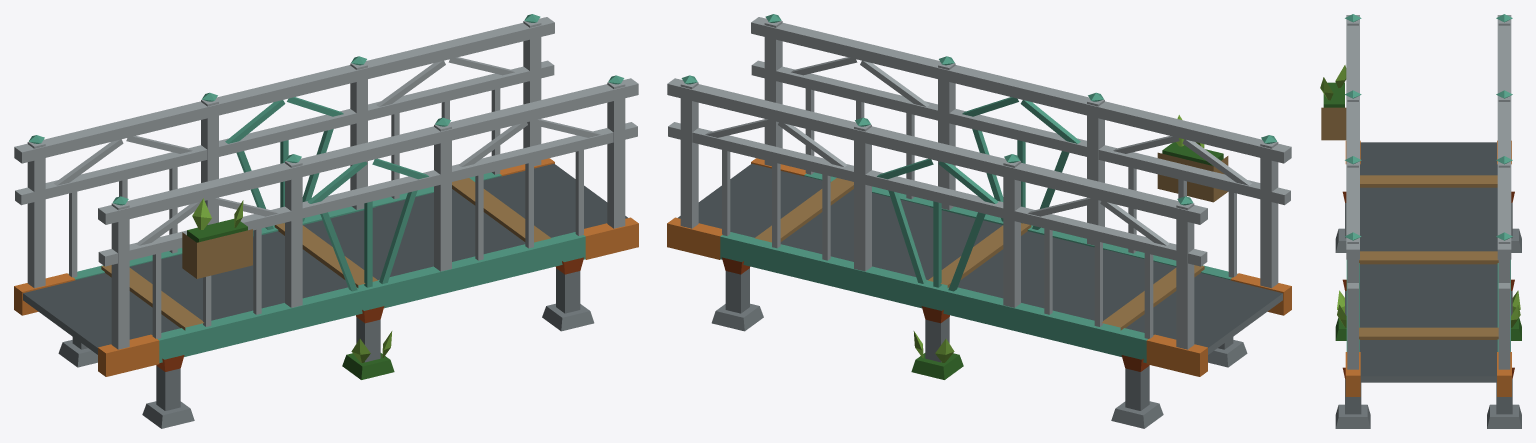
The model's file is catwalk-gantry-run-f23cac.glb.
3 renders of one model, left to right at view 1: azimuth 30°, elevation 25°; view 2: azimuth 150°, elevation 25°; view 3: azimuth 270°, elevation 25°, orthographic. The views are drawn at different scales.
Visible parts, largest first — view 1: catwalk, planter-mesh; view 2: catwalk, planter-mesh; view 3: catwalk, planter-mesh.
Boxes of the visible parts, bbox=[...] form: catwalk: bbox=[14, 14, 638, 428]; planter-mesh: bbox=[182, 198, 252, 278]; catwalk: bbox=[667, 14, 1291, 428]; planter-mesh: bbox=[1157, 115, 1228, 202]; catwalk: bbox=[1335, 14, 1521, 428]; planter-mesh: bbox=[1320, 65, 1346, 140].
Size of the model in its own units: 4 by 1.67 by 1.45.
